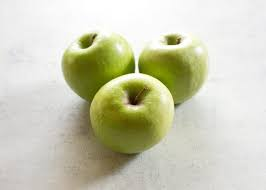apple: (89, 72, 183, 157), (60, 30, 140, 104), (143, 31, 211, 104)
